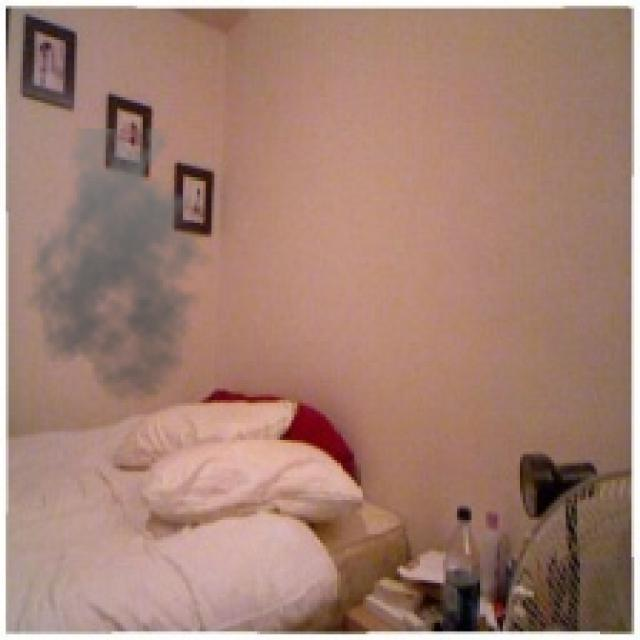Smoke: (23, 128, 223, 403)
